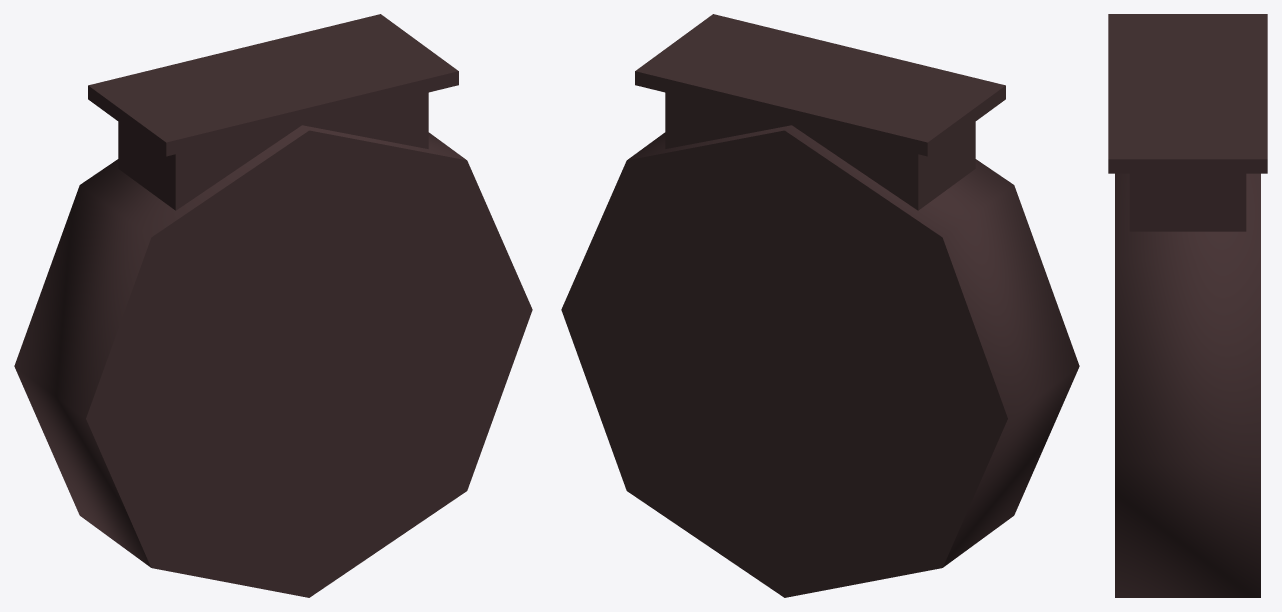
File: SW_ENV_PipeCollarToWall.fbx
3 views of the same model, side by side, from view 1: azimuth 30°, elevation 25°; view 2: azimuth 150°, elevation 25°; view 3: azimuth 270°, elevation 25° (orthographic).
Visible parts, largest first — view 1: SW_ENV_PipeCollarToWall; view 2: SW_ENV_PipeCollarToWall; view 3: SW_ENV_PipeCollarToWall.
Boxes of the visible parts, x1,y1,x2,y2 form: SW_ENV_PipeCollarToWall: [14, 14, 532, 597]; SW_ENV_PipeCollarToWall: [561, 14, 1079, 597]; SW_ENV_PipeCollarToWall: [1108, 14, 1267, 597].
Size of the model in its own units: 0.18 by 0.19 by 0.0545.
